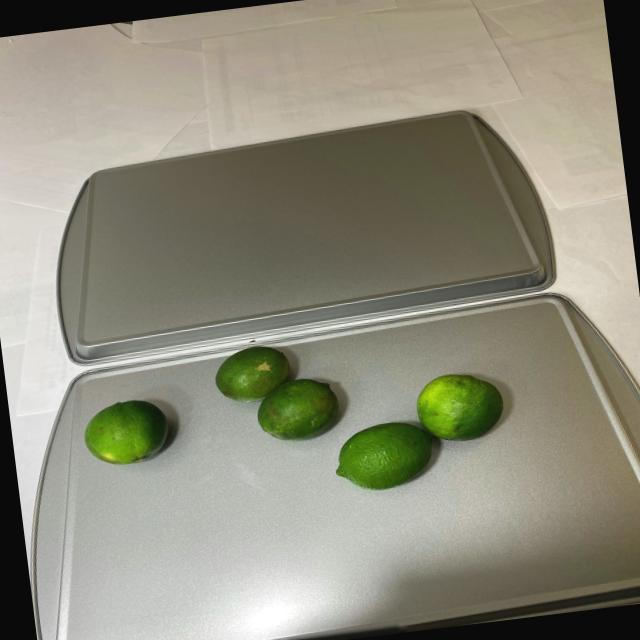lemon: (207, 315, 518, 509), (78, 394, 174, 472)
